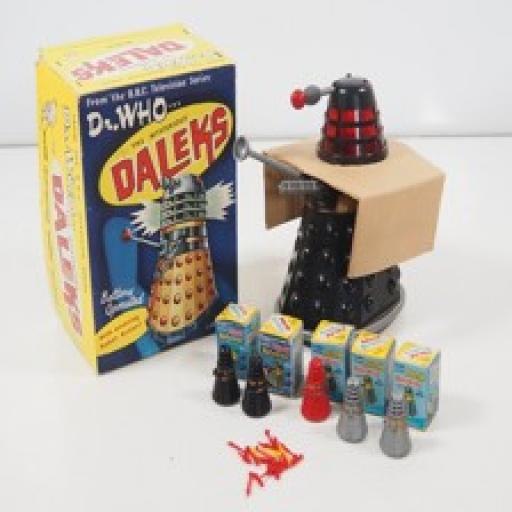dalek: (226, 72, 413, 336), (121, 167, 221, 336), (240, 352, 272, 419), (338, 374, 368, 445), (381, 387, 409, 457), (302, 358, 332, 419), (210, 347, 238, 406)
